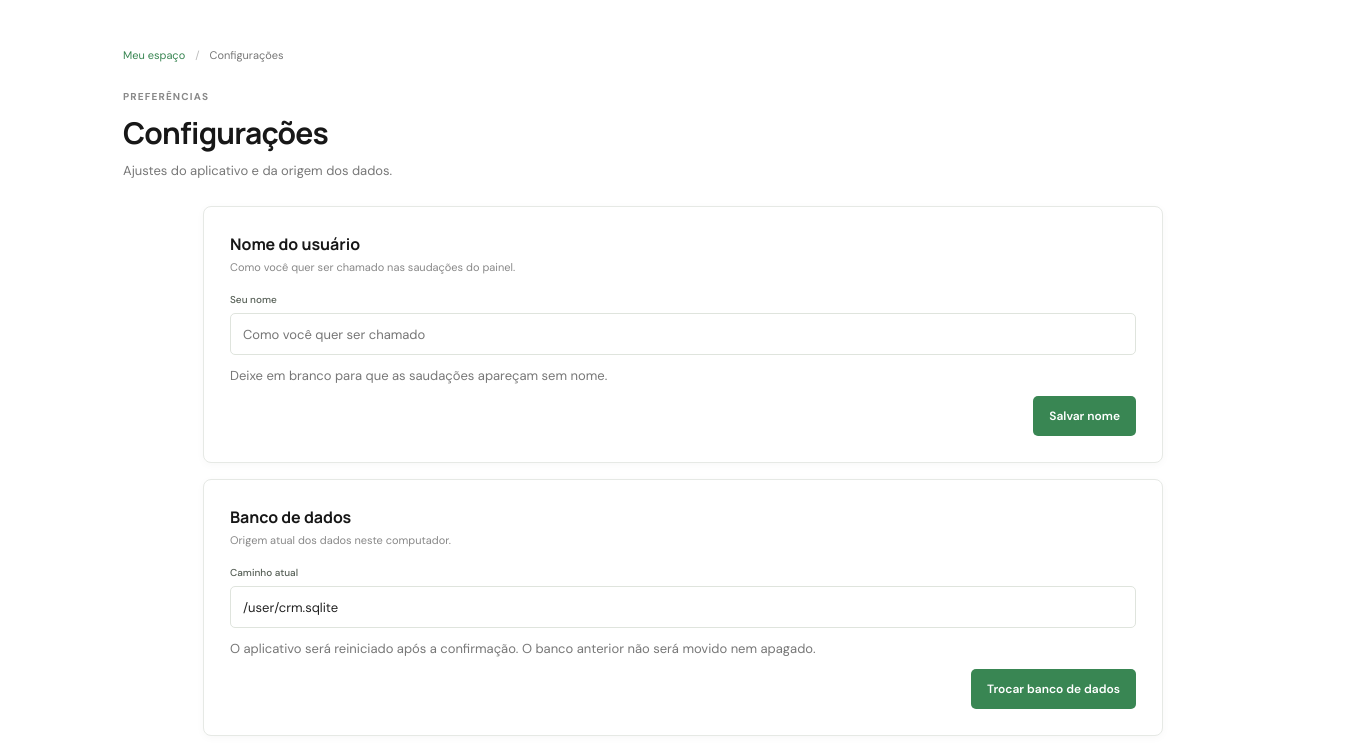
it: mostra caminho desktop e informa falha no seletor
expect the field showing "/user/crm.sqlite" is shown: met, box left=230, top=586, right=1136, bottom=628
Click the button "Trocar banco de dados": (1054, 689) left=971, top=669, right=1136, bottom=709
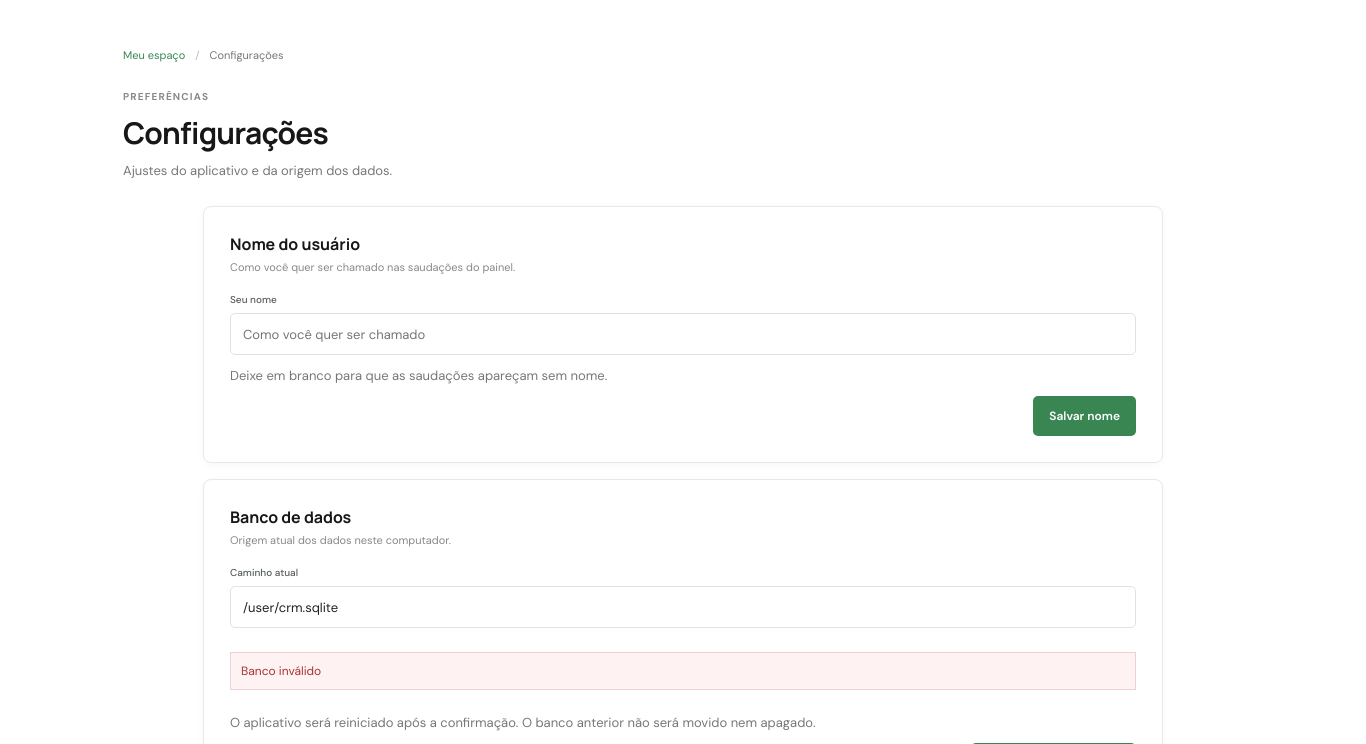
expect the message reads "Banco inválido": met, box left=241, top=663, right=321, bottom=679
